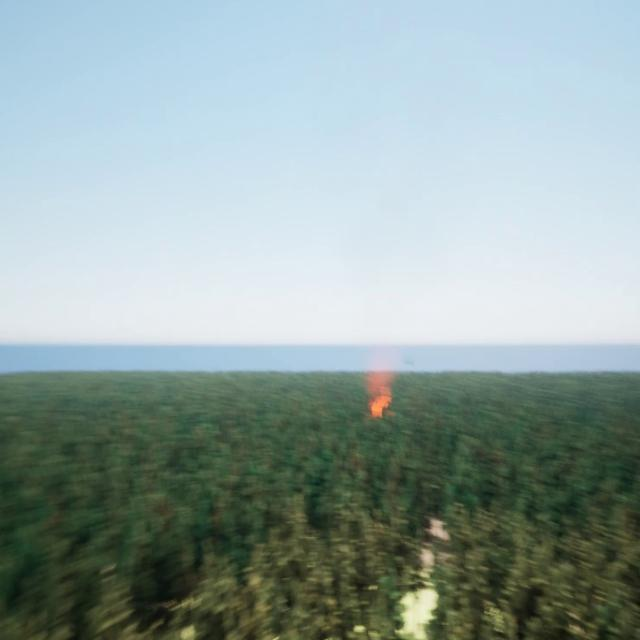smoke: (365, 352, 396, 416)
